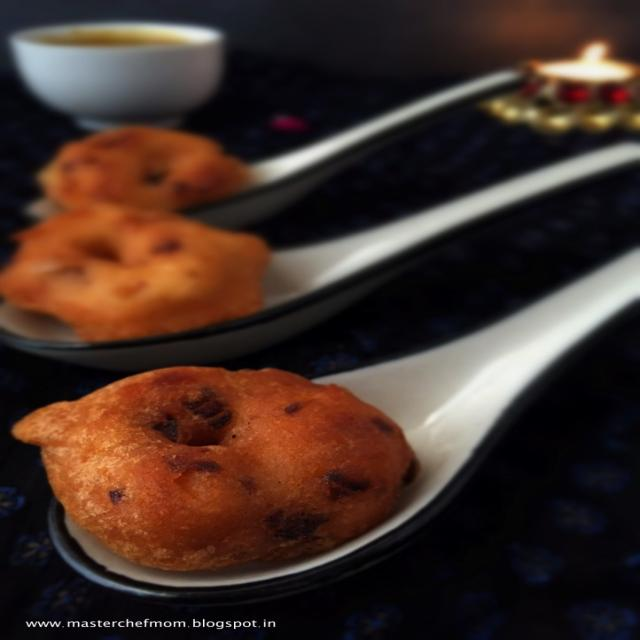medu vadai: (0, 355, 441, 584), (0, 196, 317, 344)
